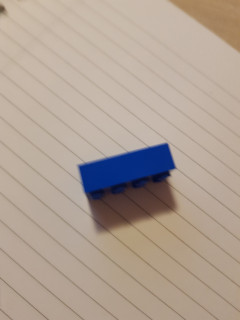2x4 blue: (78, 141, 179, 203)
